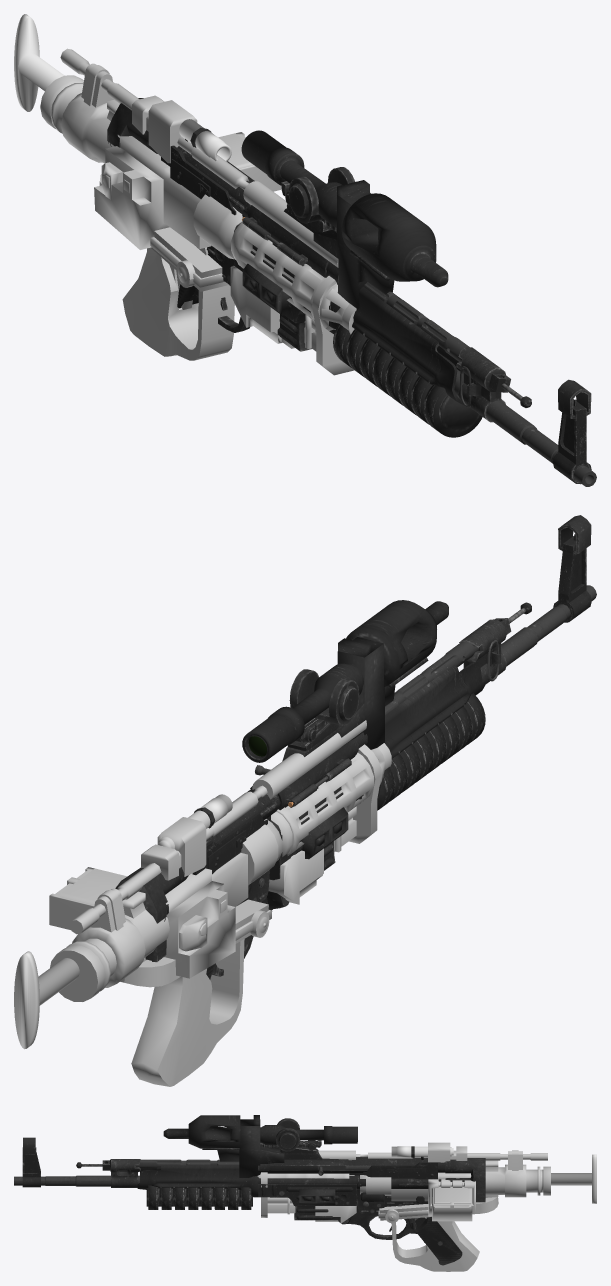
Rendered from UsedBlasters_1.fbx.
The picture shows the model from 3 angles, top to bottom: view 1: azimuth 30°, elevation 25°; view 2: azimuth 150°, elevation 25°; view 3: azimuth 270°, elevation 25°; orthographic projection. The views are drawn at different scales.
Parts seen in each view (by area): view 1: Blaster_2, Blaster_1; view 2: Blaster_2, Blaster_1; view 3: Blaster_2, Blaster_1.
Boxes of the visible parts, x1,y1,x2,y2 form: Blaster_2: (14, 14, 596, 486); Blaster_1: (40, 48, 356, 375); Blaster_2: (14, 515, 596, 1049); Blaster_1: (49, 720, 391, 1086); Blaster_2: (14, 1115, 596, 1265); Blaster_1: (257, 1142, 550, 1271).
Bounding box in the file's own units: 140 × 273 × 943.
